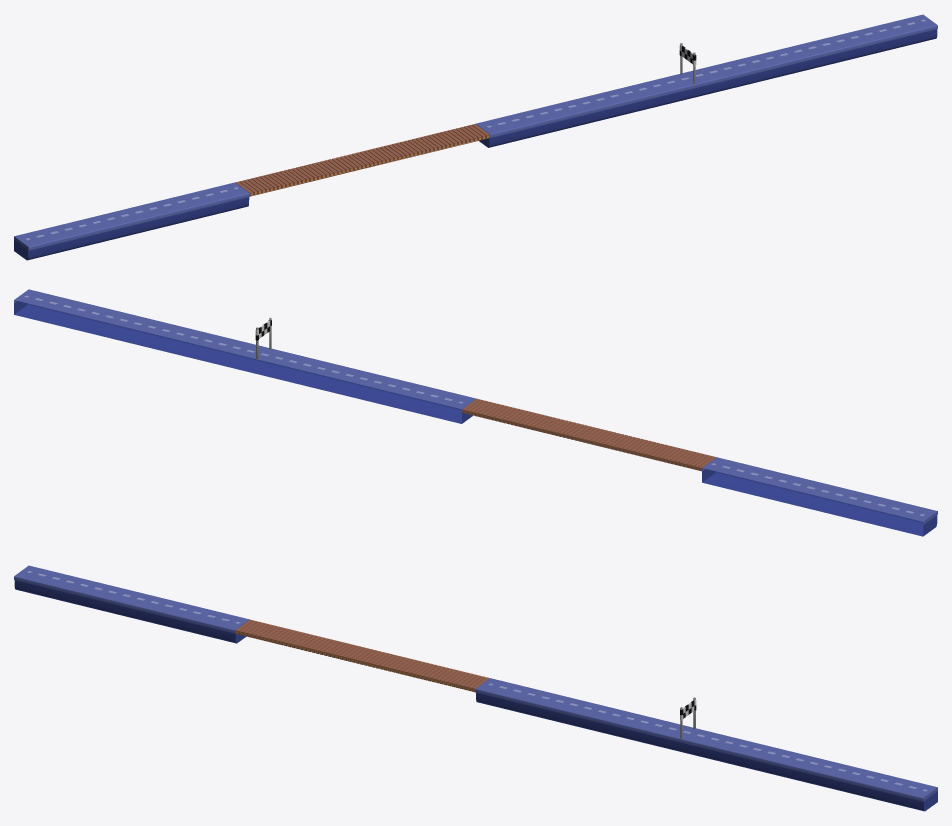
Rendered from Road.glb.
The picture shows the model from 3 angles, top to bottom: view 1: azimuth 30°, elevation 25°; view 2: azimuth 150°, elevation 25°; view 3: azimuth 330°, elevation 25°; orthographic projection.
Parts seen in each view (by area): view 1: Road_platform.001, Road_platform; view 2: Road_platform.001, Road_platform; view 3: Road_platform.001, Road_platform.
Boxes of the visible parts, x1,y1,x2,y2 form: Road_platform.001: (475,14,937,147); Road_platform: (14,182,249,260); Road_platform.001: (14,289,476,423); Road_platform: (702,457,937,536); Road_platform.001: (475,678,937,811); Road_platform: (14,565,249,643).
Bounding box in the file's own units: 311 × 14.99 × 8.79.
1 material, 1 textured.
